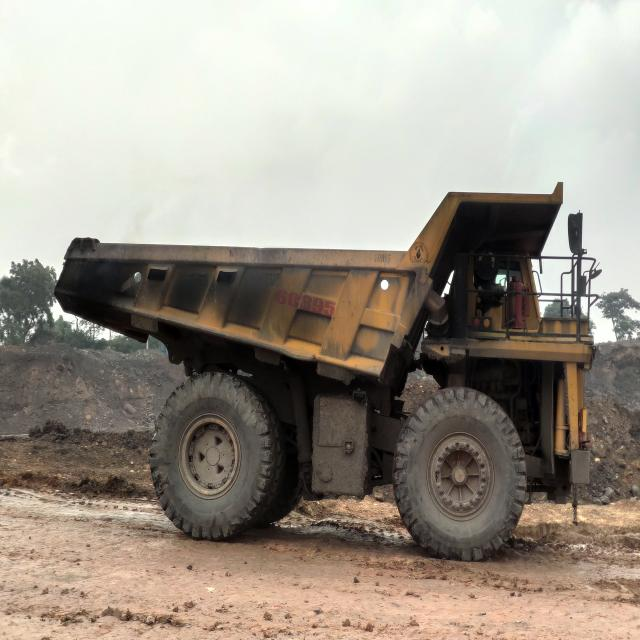dump_truck: (53, 184, 601, 563)
